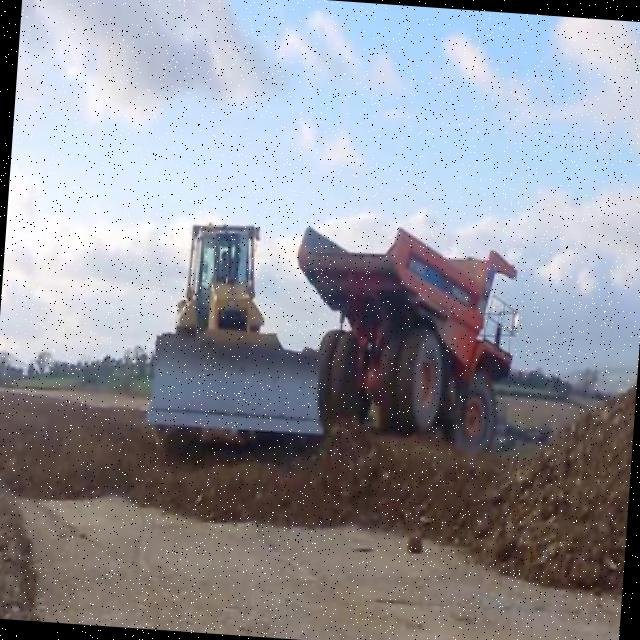Dump Truck: (284, 220, 526, 458)
